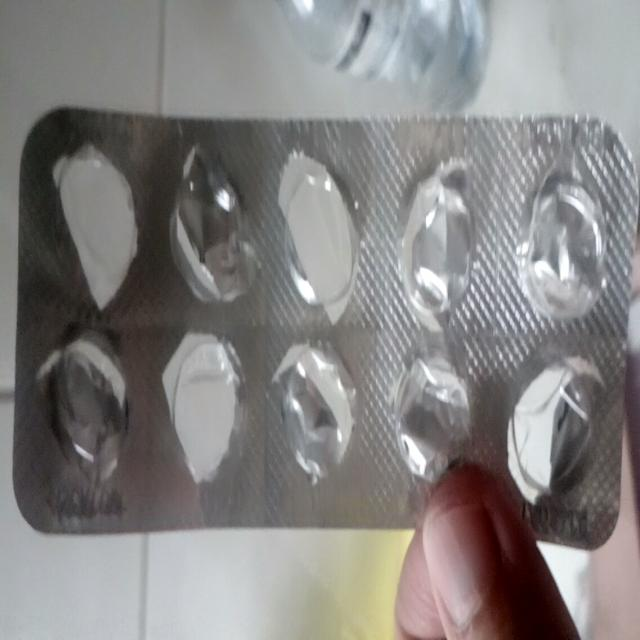Empty: (512, 150, 627, 326), (164, 134, 266, 304), (508, 350, 612, 510), (153, 328, 252, 496), (31, 336, 133, 486), (269, 340, 361, 498), (392, 156, 478, 324), (37, 144, 131, 296), (274, 154, 364, 306), (386, 340, 480, 480)
